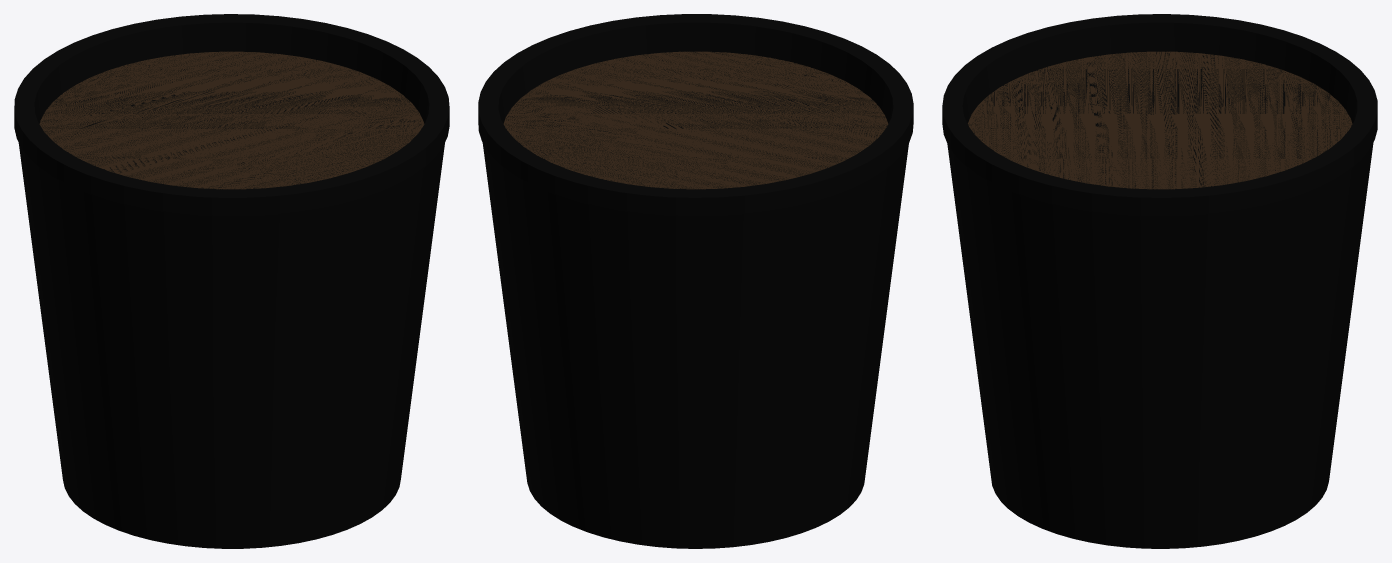
Rendered from 2 gal pot.dae.
The picture shows the model from 3 angles, left to right: view 1: azimuth 30°, elevation 25°; view 2: azimuth 150°, elevation 25°; view 3: azimuth 270°, elevation 25°; orthographic projection.
Parts seen in each view (by area): view 1: group_2, group_3; view 2: group_2, group_3; view 3: group_2, group_3.
Part boxes in pixels (left/top/right/bottom): group_2: left=14, top=14, right=449, bottom=548; group_3: left=39, top=51, right=424, bottom=189; group_2: left=478, top=14, right=913, bottom=548; group_3: left=503, top=51, right=888, bottom=189; group_2: left=942, top=14, right=1377, bottom=548; group_3: left=967, top=51, right=1352, bottom=189.
Bounding box in the file's own units: 8.5 × 8.49 × 8.
